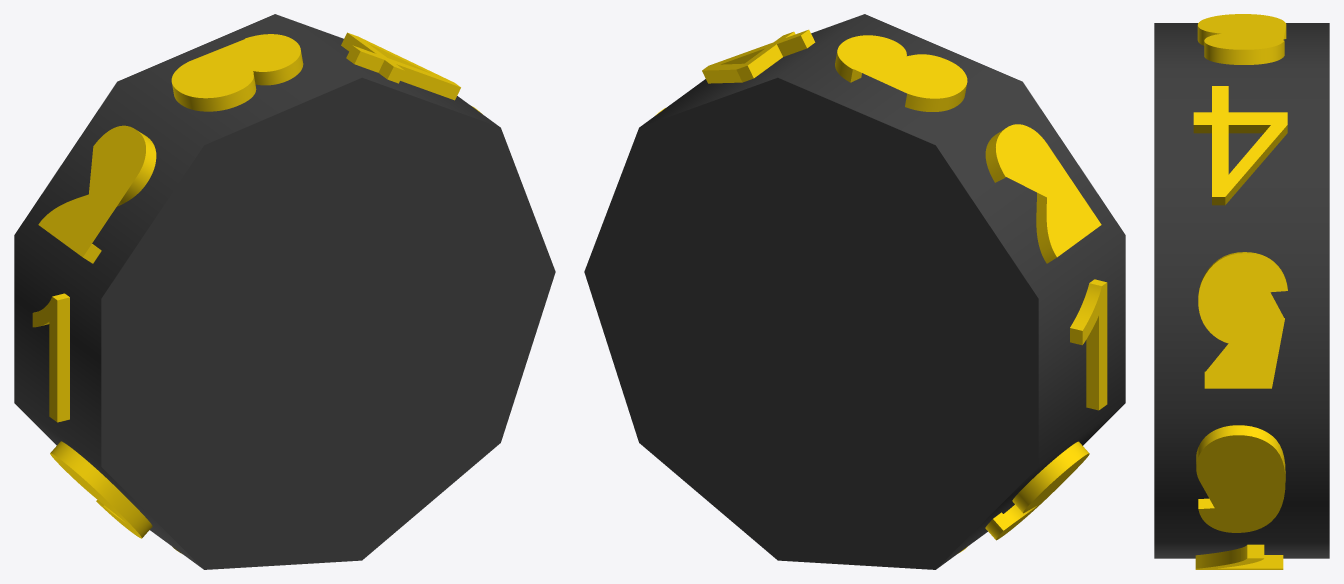
The model's file is Wheel.FBX.
3 views of the same model, side by side, from view 1: azimuth 30°, elevation 25°; view 2: azimuth 150°, elevation 25°; view 3: azimuth 270°, elevation 25° (orthographic).
Parts seen in each view (by area): view 1: Wheely_Good; view 2: Wheely_Good; view 3: Wheely_Good.
Part boxes in pixels (x1=…): Wheely_Good: x1=14, y1=14, x2=555, y2=569; Wheely_Good: x1=584, y1=14, x2=1125, y2=569; Wheely_Good: x1=1154, y1=14, x2=1329, y2=569.
Bounding box in the file's own units: 1.42 × 1.44 × 0.4538.
